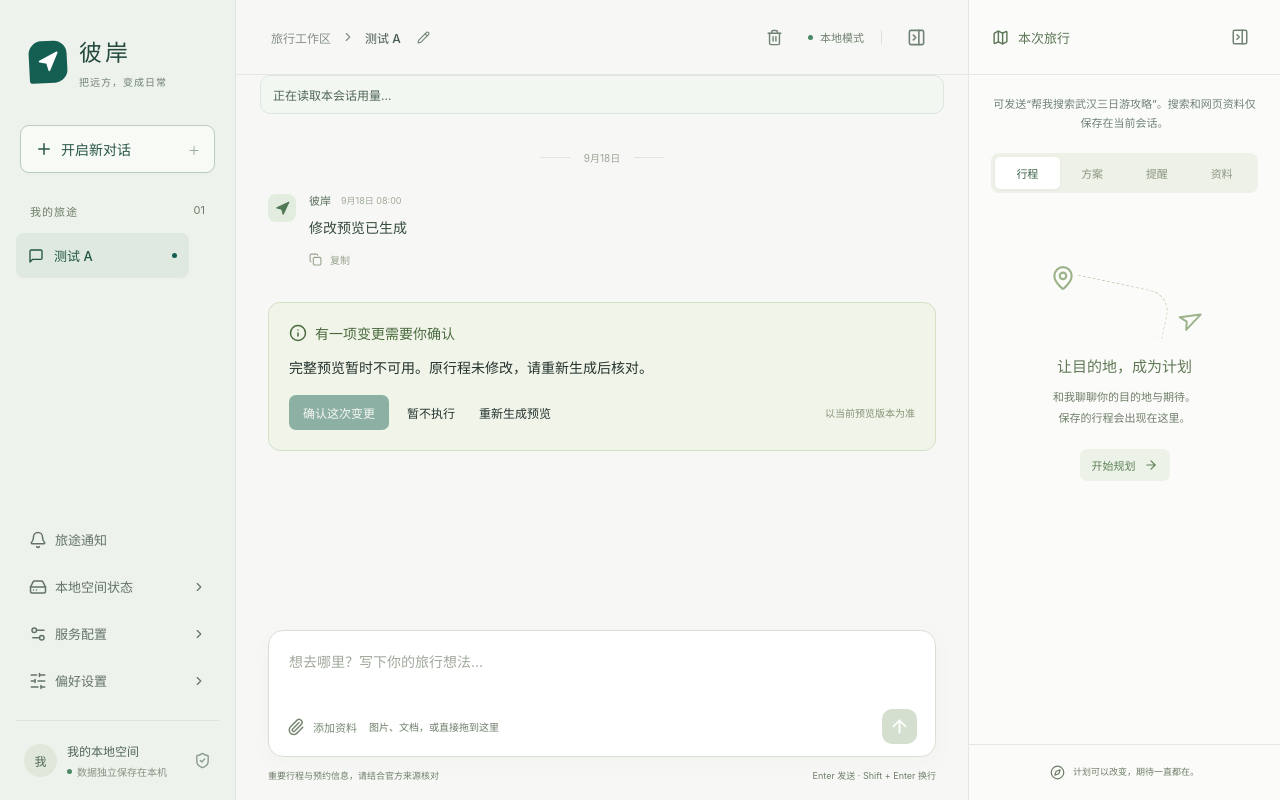
Test case: local conversation interactions › restores a conversation with invalid preview null without blanking the page
Expected: the text "完整预览暂时不可用。原行程未修改，请重新生成后核对。" is shown, [289, 359, 653, 376]
Expected: the button "确认这次变更" is disabled, [289, 395, 389, 430]
Click the button "重新生成预览". click: point(515, 413)
box: [473, 403, 557, 422]
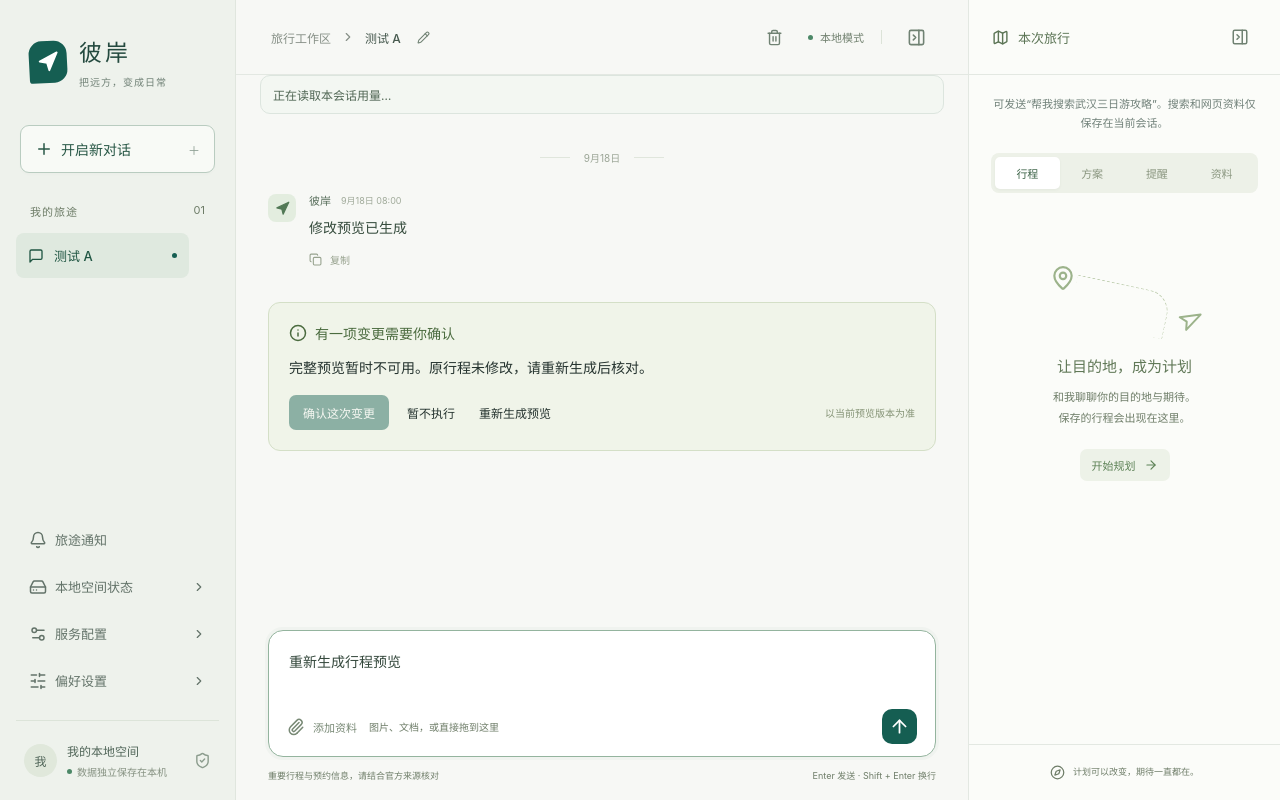
Expected: the text box named "旅行问题" holds "重新生成行程预览", [287, 648, 917, 700]
